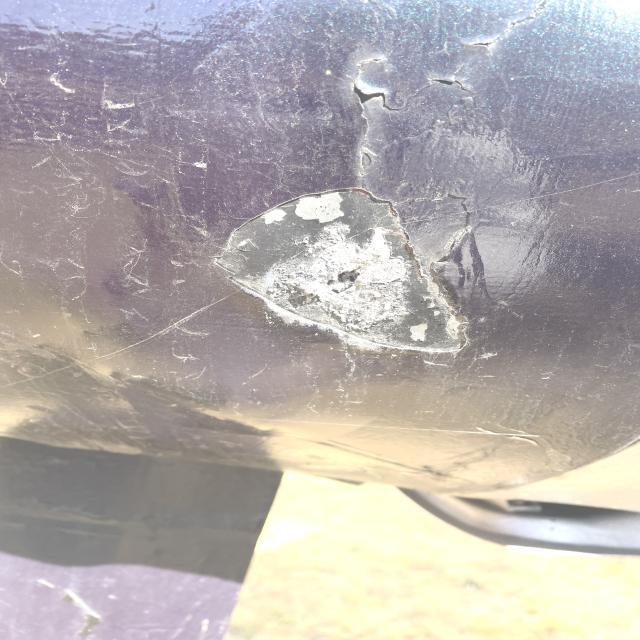crack: (333, 67, 406, 123), (458, 12, 536, 53), (429, 68, 462, 101)
dent: (203, 180, 558, 375)
